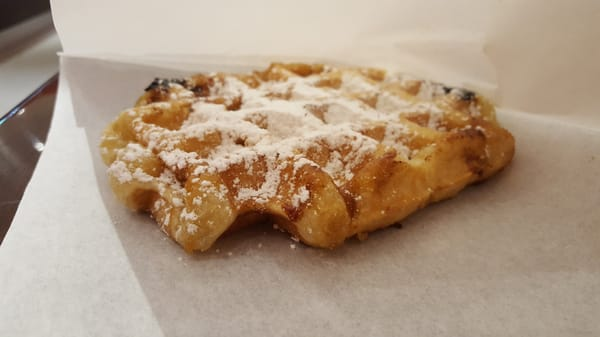salad: (99, 62, 513, 254)
